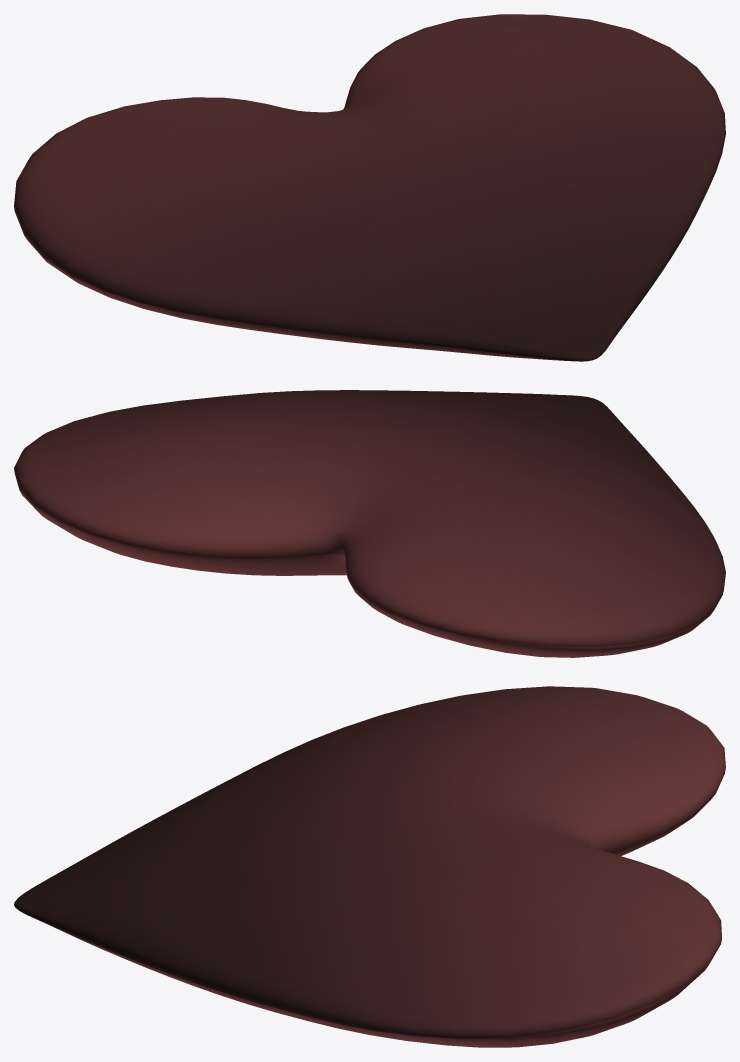
The model's file is heart.glb.
3 renders of one model, top to bottom at view 1: azimuth 30°, elevation 25°; view 2: azimuth 150°, elevation 25°; view 3: azimuth 270°, elevation 25°, orthographic. The views are drawn at different scales.
Visible parts, largest first — view 1: cs_t_heart3; view 2: cs_t_heart3; view 3: cs_t_heart3.
Part boxes in pixels (<box>): cs_t_heart3: <box>14,14,725,361</box>; cs_t_heart3: <box>14,390,725,657</box>; cs_t_heart3: <box>14,686,725,1047</box>.
Bounding box in the file's own units: 0.1207 × 0.0241 × 0.1022.
Materials: 1 (1 with a texture image).
